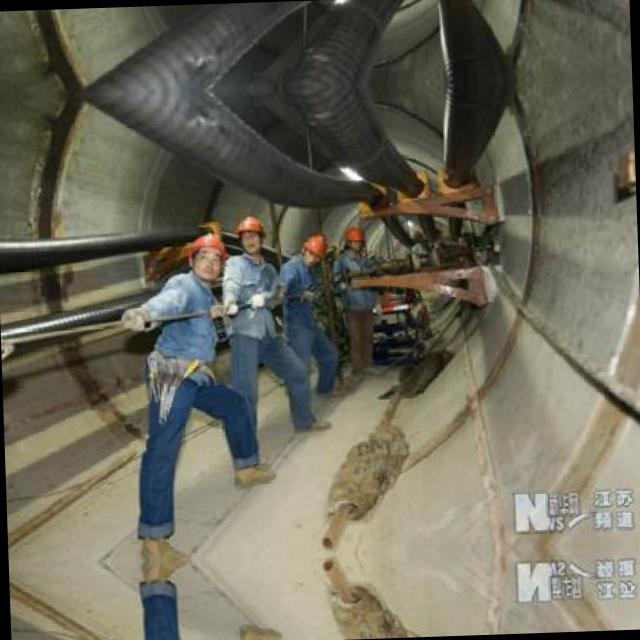helmet: (187, 226, 226, 274), (235, 212, 267, 255), (298, 230, 328, 266), (344, 222, 366, 249)
